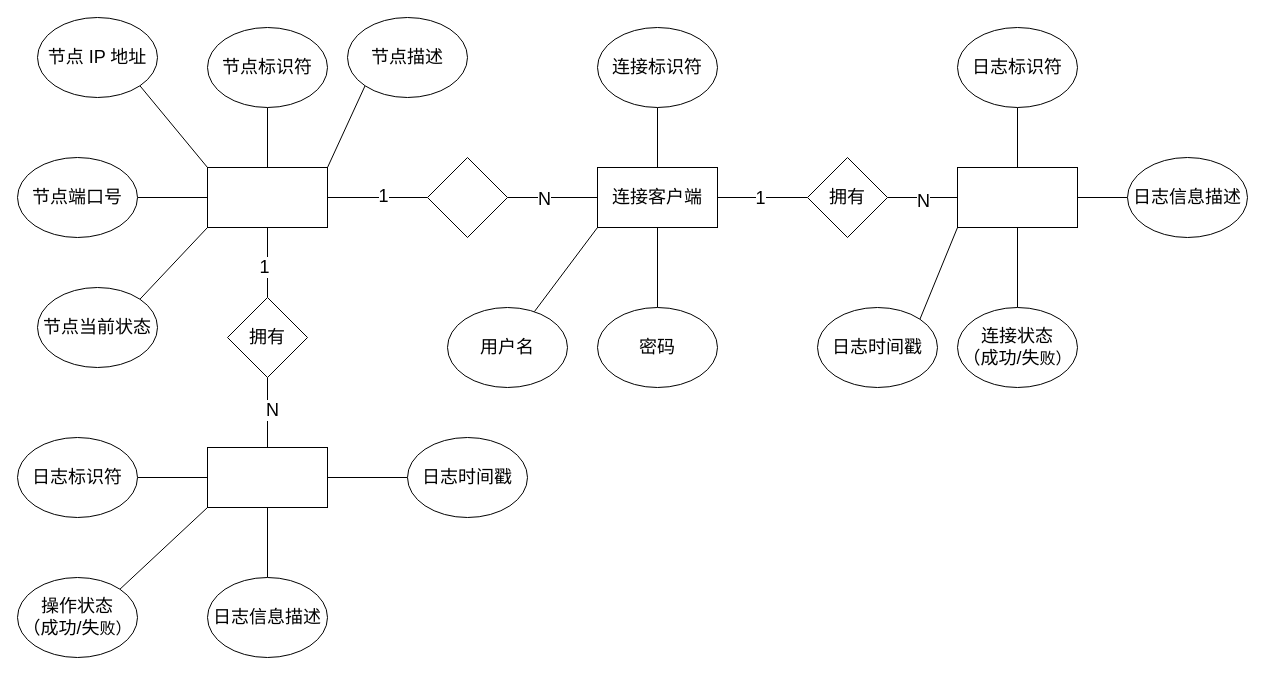
The diagram is 1265 pixels wide and 675 high, and some of its shapes have lost their labels. Each missing label, with the centre of its shape:
"存储节点" goes at point (267, 197).
"存储节点日志" goes at point (267, 477).
"连接" goes at point (467, 197).
"连接日志" goes at point (1017, 197).
